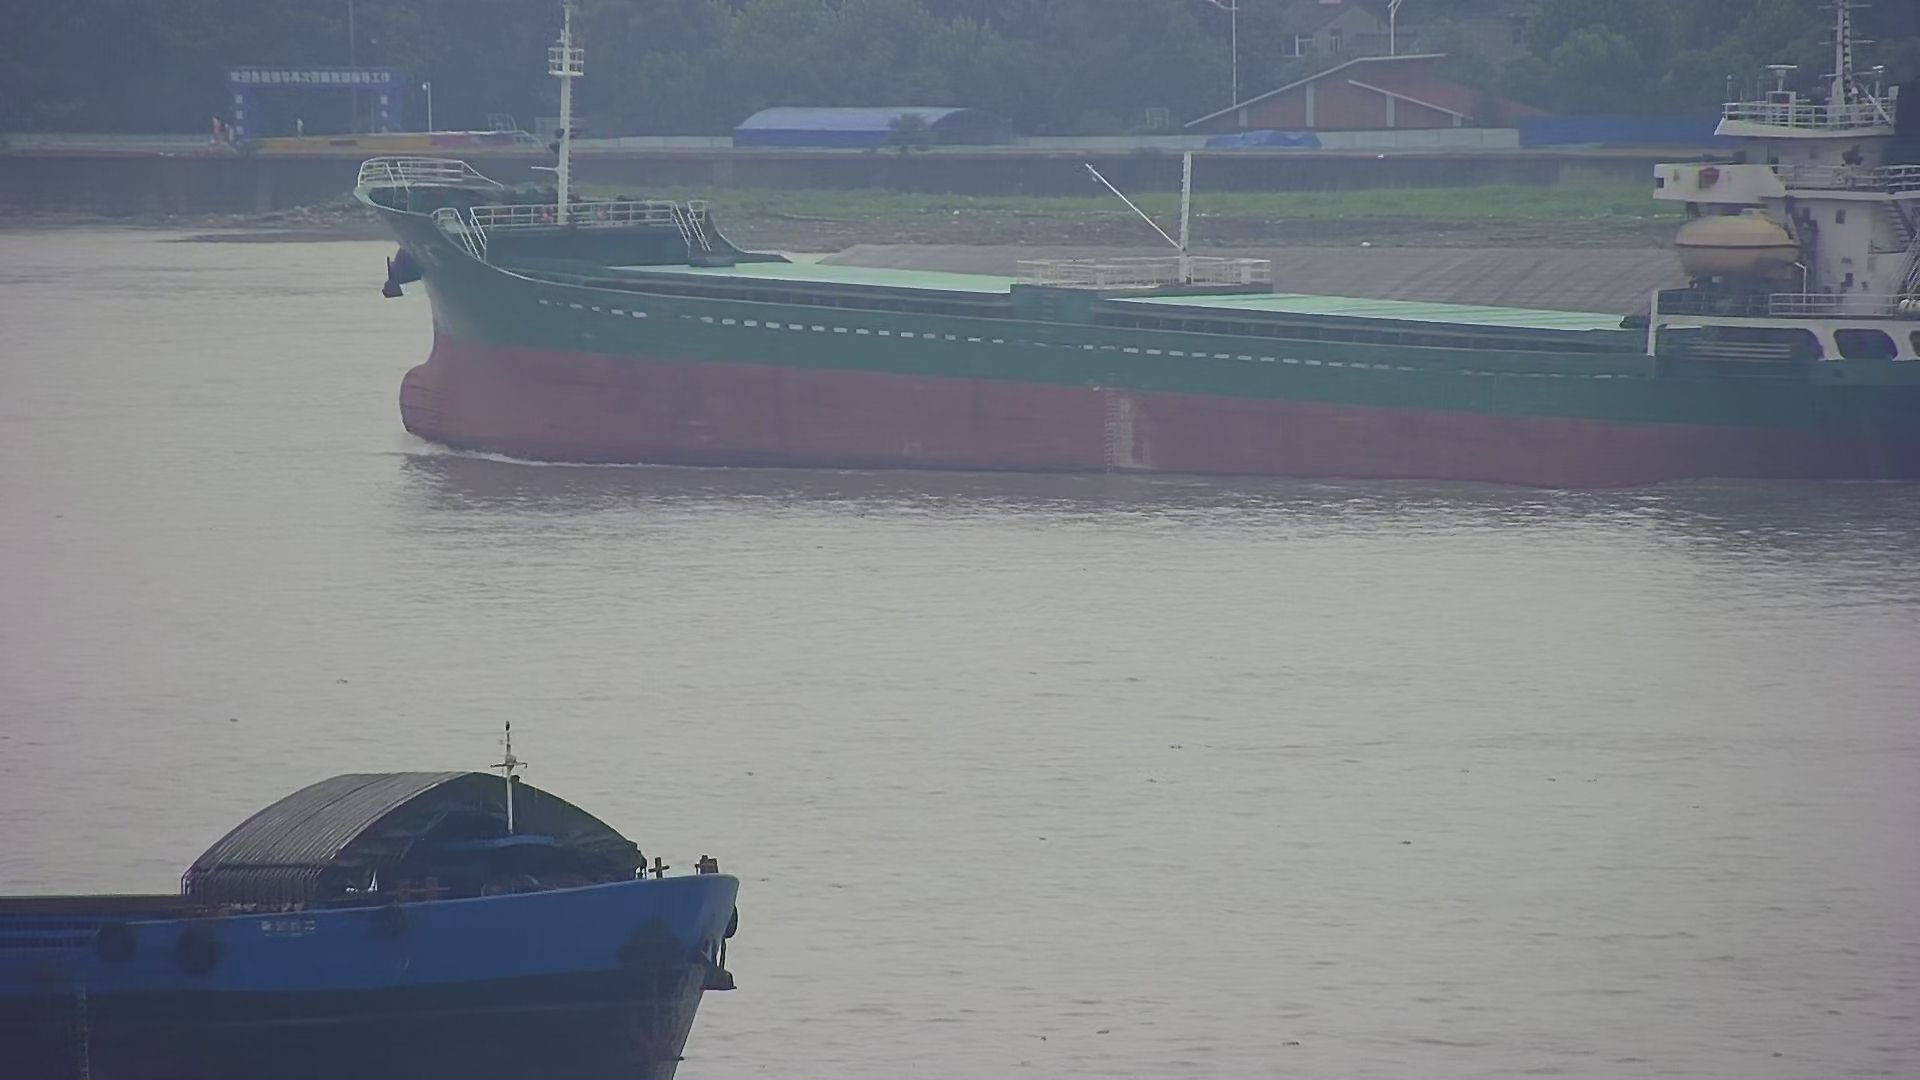ship: (360, 8, 1920, 495), (1, 708, 748, 1080)
